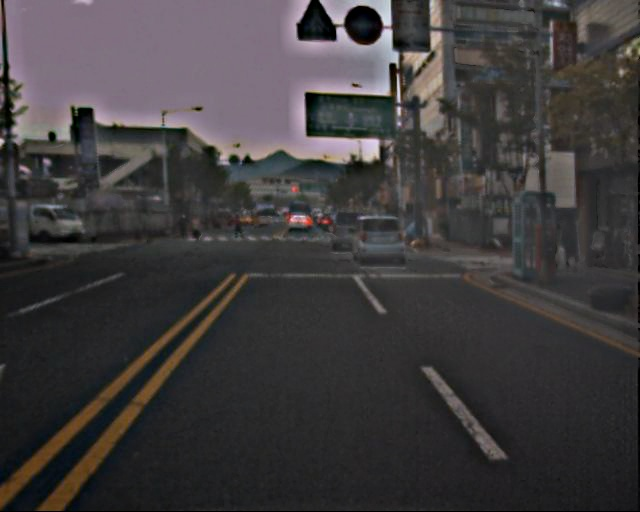person: (556, 210, 582, 273), (177, 211, 189, 241), (233, 212, 245, 242), (190, 214, 202, 243)
